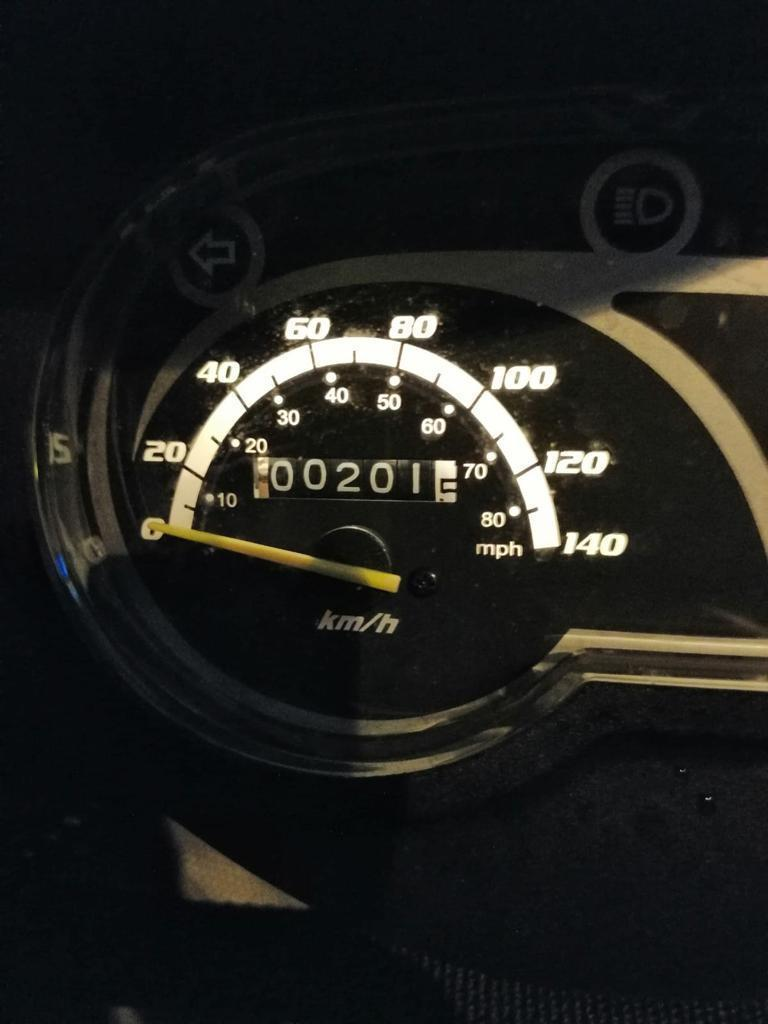0: (301, 454, 328, 495), (267, 457, 296, 495), (368, 457, 395, 495)
1: (406, 457, 424, 500)
2: (334, 457, 362, 496)
5: (437, 472, 461, 504)
odometer: (249, 450, 465, 511)
